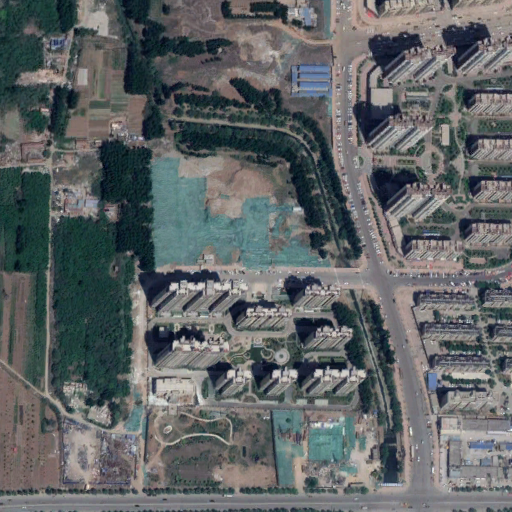cw: (154, 153, 332, 267), (273, 407, 382, 489)
